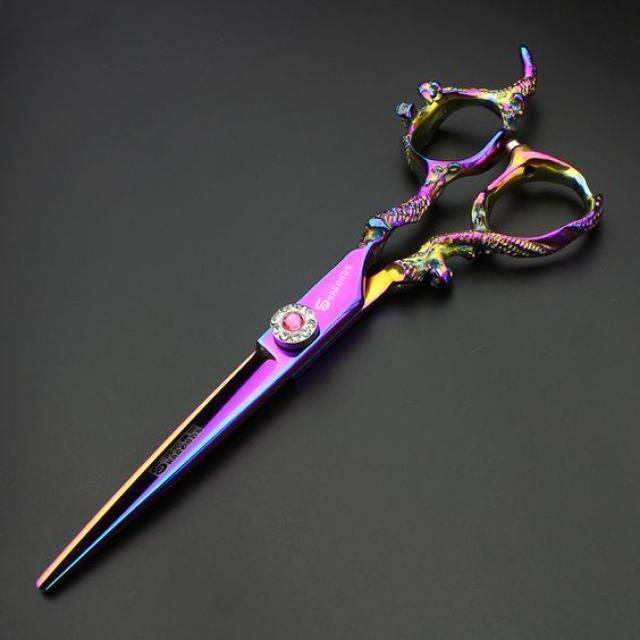scissor: (30, 43, 608, 602)
